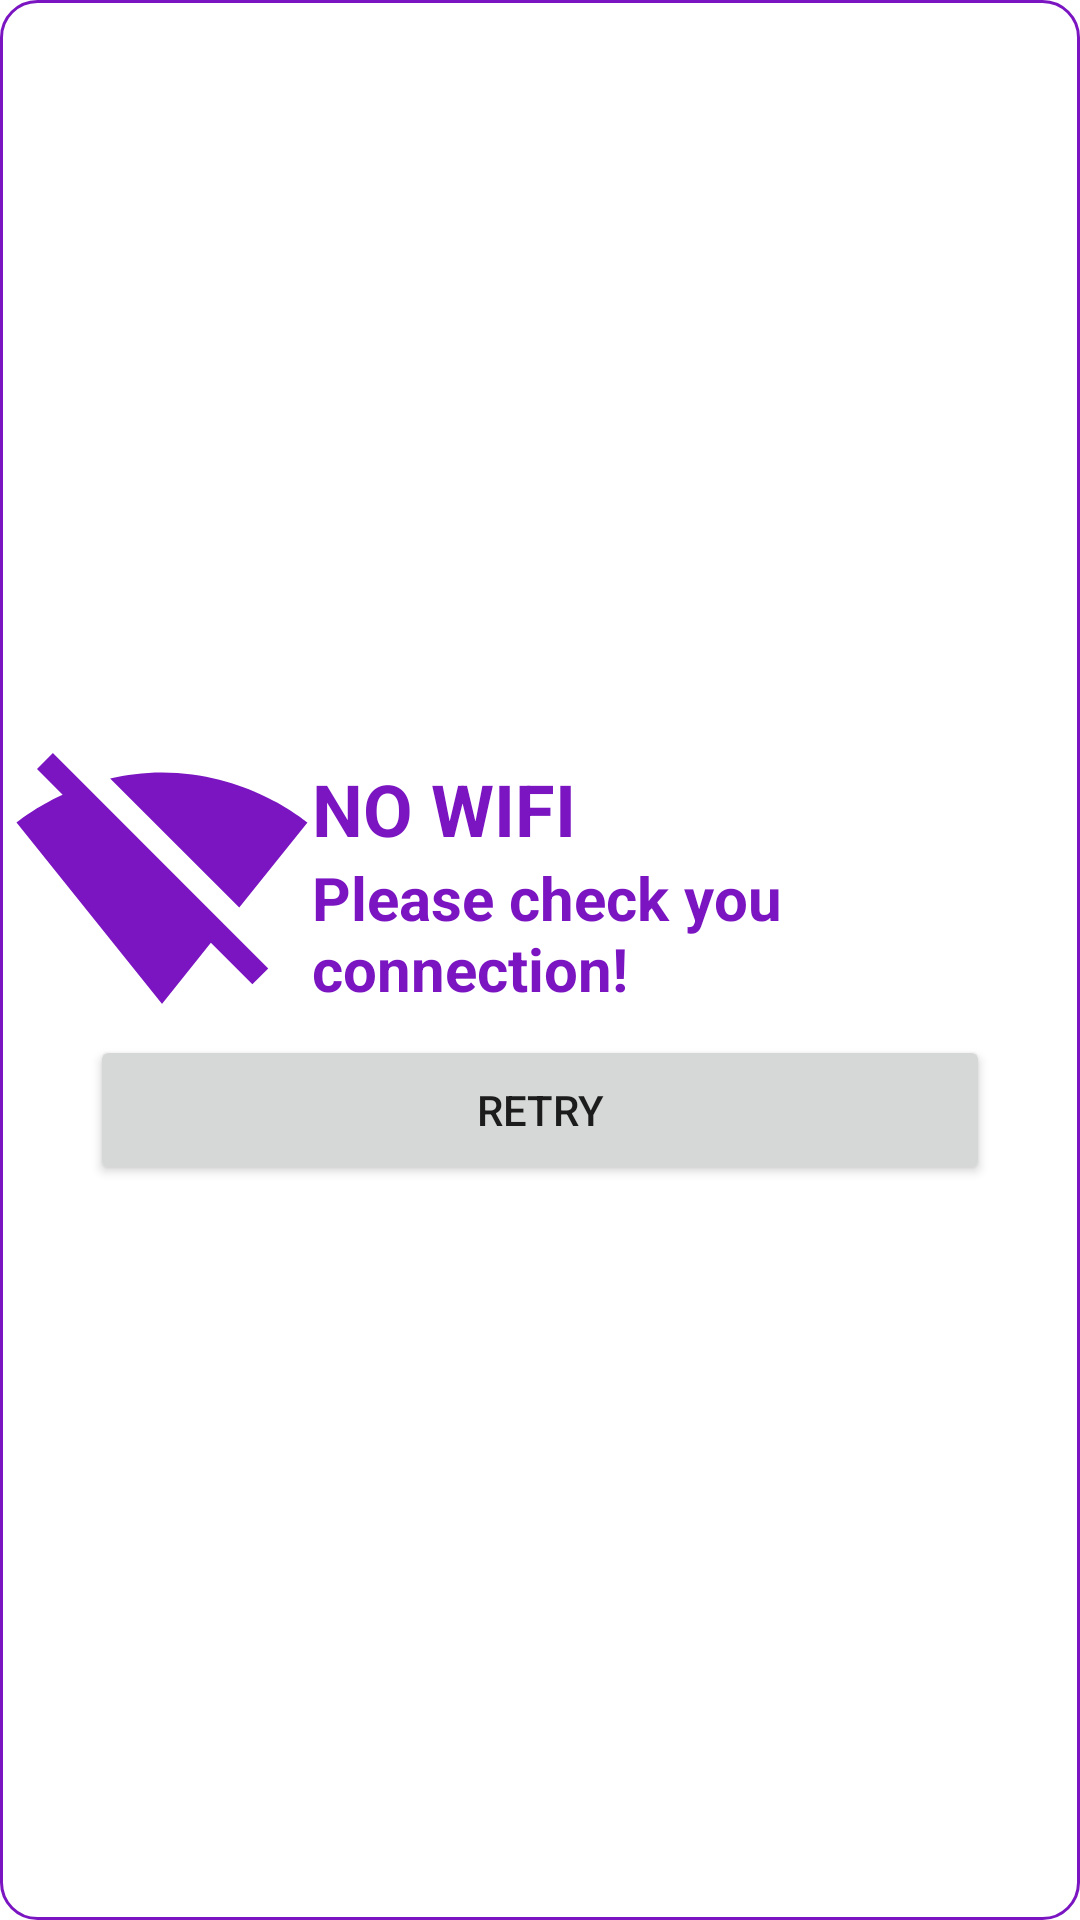

Icon click points for this 1080 x 1920 phone screenshot, format point (x, y):
mo wifi: point (162, 878)
